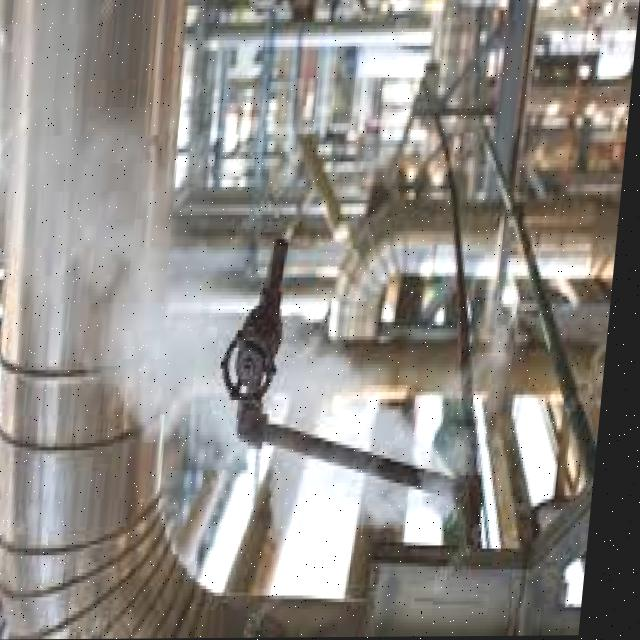corrosion: (115, 209, 325, 456), (366, 383, 502, 554)
